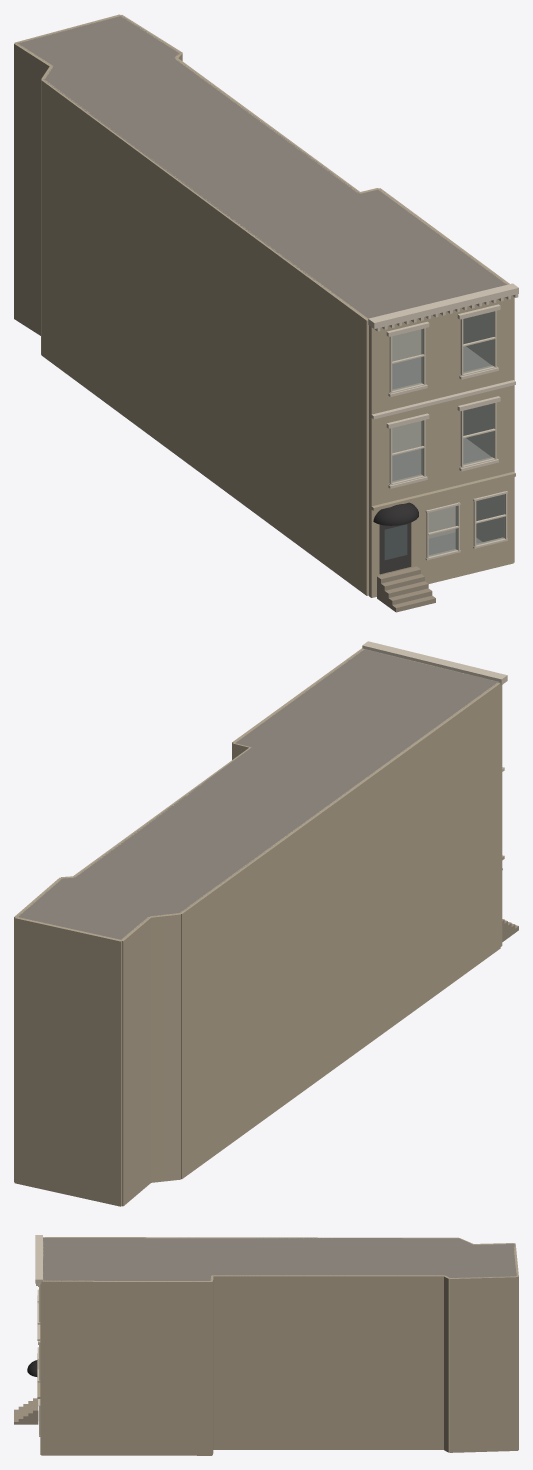
The picture shows the model from 3 angles, top to bottom: view 1: azimuth 30°, elevation 25°; view 2: azimuth 150°, elevation 25°; view 3: azimuth 270°, elevation 25°; orthographic projection. The views are drawn at different scales.
Visible parts, largest first — view 1: Shell, Roof, Facade floor 0, Facade floor 1, Facade floor 2, Cornice, Floor 2, Floor 1, Floor 0; view 2: Shell, Roof, Cornice; view 3: Shell, Roof, Facade floor 0, Cornice, Facade floor 1.
Part boxes in pixels (box(x1,y1,x2,y2)): Shell: box(14, 14, 514, 595); Roof: box(17, 16, 507, 318); Facade floor 0: box(369, 471, 515, 612); Facade floor 1: box(369, 380, 515, 506); Facade floor 2: box(369, 295, 513, 414); Cornice: box(368, 283, 518, 331); Floor 2: box(368, 329, 490, 412); Floor 1: box(392, 421, 490, 480); Floor 0: box(428, 506, 481, 555); Shell: box(14, 648, 500, 1206); Roof: box(17, 649, 499, 939); Cornice: box(362, 641, 507, 685); Shell: box(41, 1237, 518, 1455); Roof: box(43, 1237, 516, 1280); Facade floor 0: box(14, 1353, 41, 1454); Cornice: box(35, 1235, 42, 1285); Facade floor 1: box(37, 1295, 41, 1396).
Bounding box in the file's own units: 5.84 × 10.62 × 27.67.
